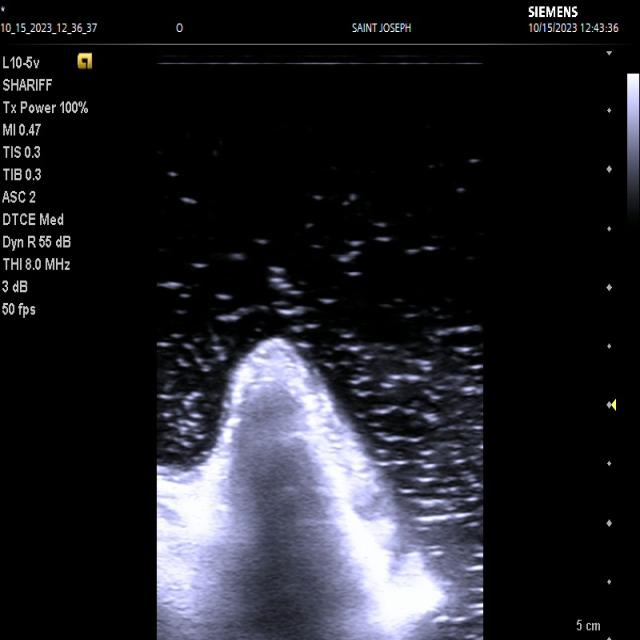tissue: (158, 338, 447, 640)
